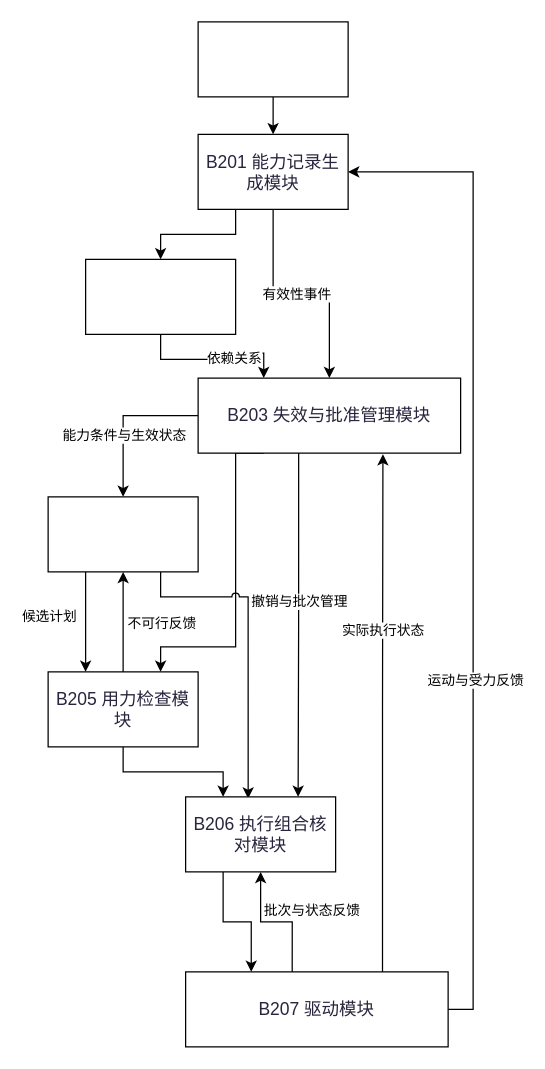
Some shapes in this 545 by 1069 pixel diagram are drawn without their labels. Here are the shapes that lost their labels. From the top down, the centre of each, then its label:
(272,59): 传感观测与标定数据
(160,296): B202 接触对应模块
(122,534): B204 动作重算模块
